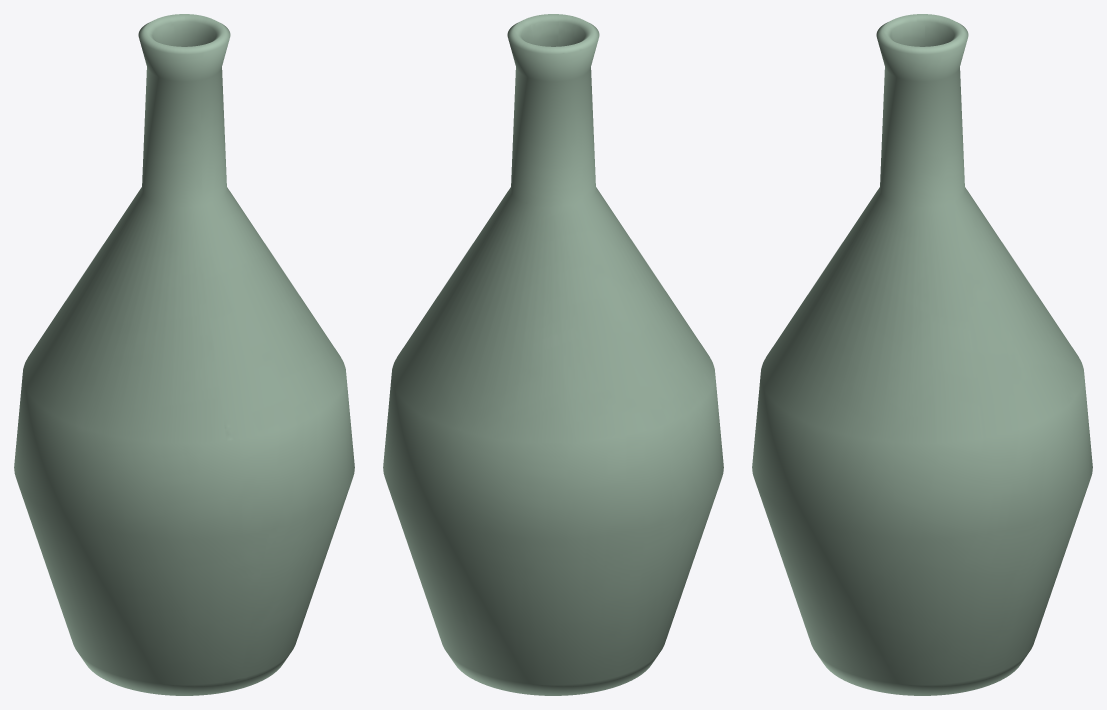
Rendered from bud-celadon.glb.
The picture shows the model from 3 angles, left to right: view 1: azimuth 30°, elevation 25°; view 2: azimuth 150°, elevation 25°; view 3: azimuth 270°, elevation 25°; orthographic projection.
Visible parts, largest first — view 1: ceramic_primary; view 2: ceramic_primary; view 3: ceramic_primary.
Boxes of the visible parts, bbox=[...] form: ceramic_primary: bbox=[14, 14, 354, 695]; ceramic_primary: bbox=[383, 14, 723, 695]; ceramic_primary: bbox=[752, 14, 1092, 695].
Size of the model in its own units: 0.12 by 0.2418 by 0.12.
1 material, 1 textured.
